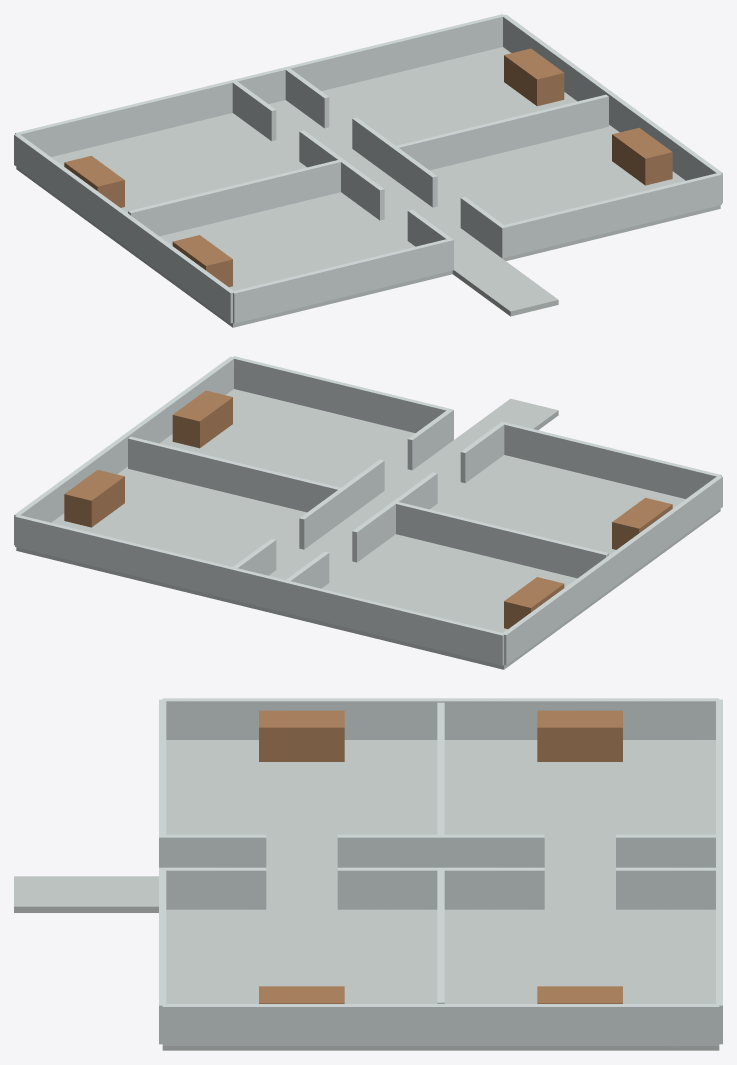
File: review-office-cutaway.glb
3 renders of one model, top to bottom at view 1: azimuth 30°, elevation 25°; view 2: azimuth 150°, elevation 25°; view 3: azimuth 270°, elevation 25°, orthographic. The views are drawn at different scales.
Parts seen in each view (by area): view 1: review-office/floor/cutaway.002, review-office/rear-wall/cutaway.002, review-office/outer--1/cutaway.002, review-office/entry-jamb-1/cutaway.002, review-office/entry-jamb--1/cutaway.002, review-office/room-divider--1/cutaway.002, review-office/room-divider-1/cutaway.002, review-office/outer-1/cutaway.002, review-office/portal-floor-0/cutaway.002, review-office/desk-1/cutaway.002, review-office/desk-3/cutaway.002, review-office/corridor-1-1-a/cutaway.002 (+9 smaller); view 2: review-office/floor/cutaway.002, review-office/rear-wall/cutaway.002, review-office/outer--1/cutaway.002, review-office/entry-jamb-1/cutaway.002, review-office/entry-jamb--1/cutaway.002, review-office/room-divider--1/cutaway.002, review-office/room-divider-1/cutaway.002, review-office/outer-1/cutaway.002, review-office/desk-1/cutaway.002, review-office/desk-3/cutaway.002, review-office/portal-floor-0/cutaway.002, review-office/corridor-1--1-b/cutaway.002 (+9 smaller); view 3: review-office/floor/cutaway.002, review-office/outer-1/cutaway.002, review-office/outer--1/cutaway.002, review-office/portal-floor-0/cutaway.002, review-office/desk-0/cutaway.002, review-office/desk-2/cutaway.002, review-office/corridor-1-1-b/cutaway.002, review-office/corridor-1--1-b/cutaway.002, review-office/corridor-1-1-a/cutaway.002, review-office/corridor-1--1-a/cutaway.002, review-office/corridor--1--1-b/cutaway.002, review-office/corridor--1-1-a/cutaway.002 (+9 smaller).
Part boxes in pixels (x1,y1,x2,y2): review-office/floor/cutaway.002: (16, 47, 720, 327); review-office/rear-wall/cutaway.002: (15, 14, 503, 156); review-office/outer--1/cutaway.002: (14, 133, 234, 323); review-office/entry-jamb-1/cutaway.002: (500, 173, 721, 258); review-office/entry-jamb--1/cutaway.002: (232, 238, 453, 323); review-office/room-divider--1/cutaway.002: (128, 160, 340, 236); review-office/room-divider-1/cutaway.002: (396, 94, 608, 170); review-office/outer-1/cutaway.002: (502, 14, 722, 203); review-office/portal-floor-0/cutaway.002: (452, 257, 558, 316); review-office/desk-1/cutaway.002: (612, 127, 672, 185); review-office/desk-3/cutaway.002: (504, 48, 564, 106); review-office/corridor-1-1-a/cutaway.002: (392, 147, 437, 207); review-office/floor/cutaway.002: (16, 389, 720, 669); review-office/rear-wall/cutaway.002: (15, 515, 504, 665); review-office/outer--1/cutaway.002: (502, 475, 722, 665); review-office/entry-jamb-1/cutaway.002: (232, 356, 453, 441); review-office/entry-jamb--1/cutaway.002: (501, 421, 721, 498); review-office/room-divider--1/cutaway.002: (396, 502, 608, 578); review-office/room-divider-1/cutaway.002: (128, 436, 340, 512); review-office/outer-1/cutaway.002: (14, 356, 234, 545); review-office/desk-1/cutaway.002: (172, 390, 232, 448); review-office/desk-3/cutaway.002: (64, 469, 124, 527); review-office/portal-floor-0/cutaway.002: (453, 398, 558, 444); review-office/corridor-1--1-b/cutaway.002: (299, 489, 344, 549); review-office/floor/cutaway.002: (162, 740, 719, 1050); review-office/outer-1/cutaway.002: (162, 1004, 719, 1045); review-office/outer--1/cutaway.002: (162, 698, 719, 739); review-office/portal-floor-0/cutaway.002: (14, 876, 158, 912); review-office/desk-0/cutaway.002: (259, 710, 344, 761); review-office/desk-2/cutaway.002: (537, 710, 622, 761); review-office/corridor-1-1-b/cutaway.002: (162, 867, 266, 909); review-office/corridor-1--1-b/cutaway.002: (441, 867, 544, 909); review-office/corridor-1-1-a/cutaway.002: (337, 867, 440, 909); review-office/corridor-1--1-a/cutaway.002: (616, 867, 718, 909); review-office/corridor--1--1-b/cutaway.002: (441, 834, 544, 867); review-office/corridor--1-1-a/cutaway.002: (337, 834, 440, 867).
Size of the model in its own units: 15.36 by 1.05 by 14.9.
